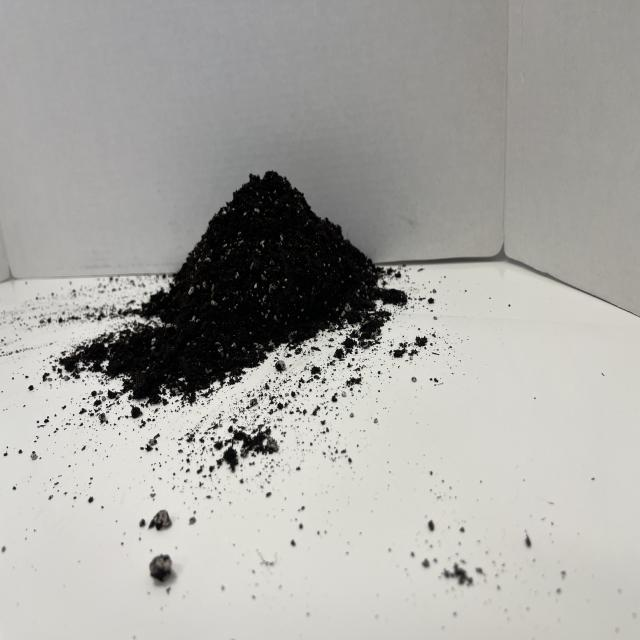soil: (56, 167, 404, 407)
